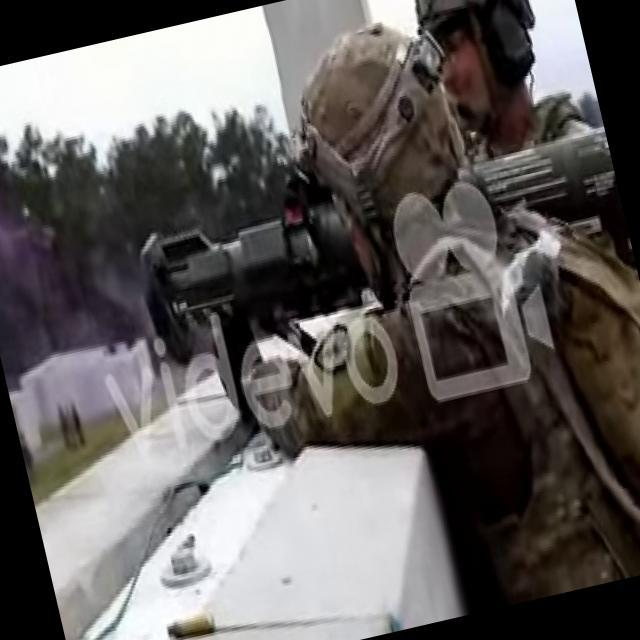rocket: (128, 119, 636, 374)
